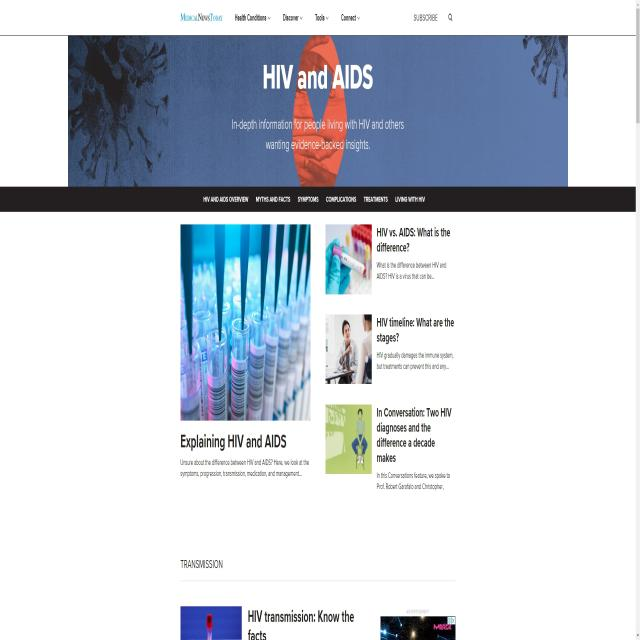tab-bar: (201, 184, 429, 214), (234, 8, 364, 31)
